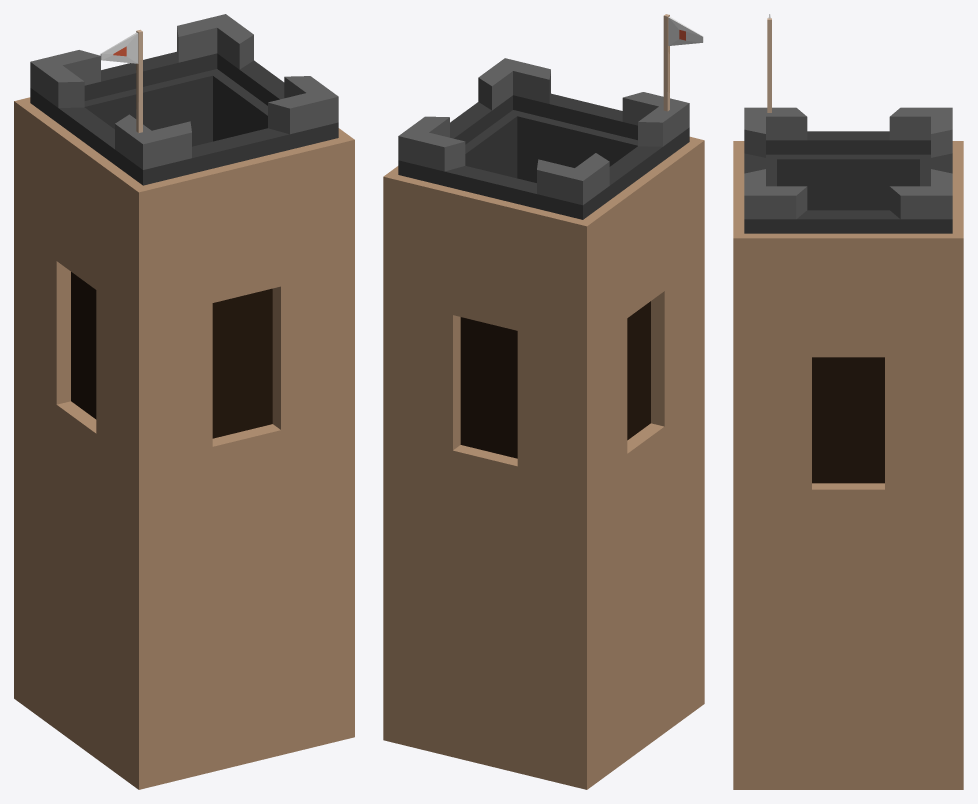
File: tower.gltf
3 renders of one model, left to right at view 1: azimuth 30°, elevation 25°; view 2: azimuth 150°, elevation 25°; view 3: azimuth 270°, elevation 25°, orthographic. The views are drawn at different scales.
Parts seen in each view (by area): view 1: Cube; view 2: Cube; view 3: Cube.
Part boxes in pixels (x1,y1,x2,y2): Cube: (14,14,354,789); Cube: (383,14,704,789); Cube: (733,14,963,789).
Size of the model in its own units: 2.17 by 6.54 by 2.
Materials: 1 (1 with a texture image).
